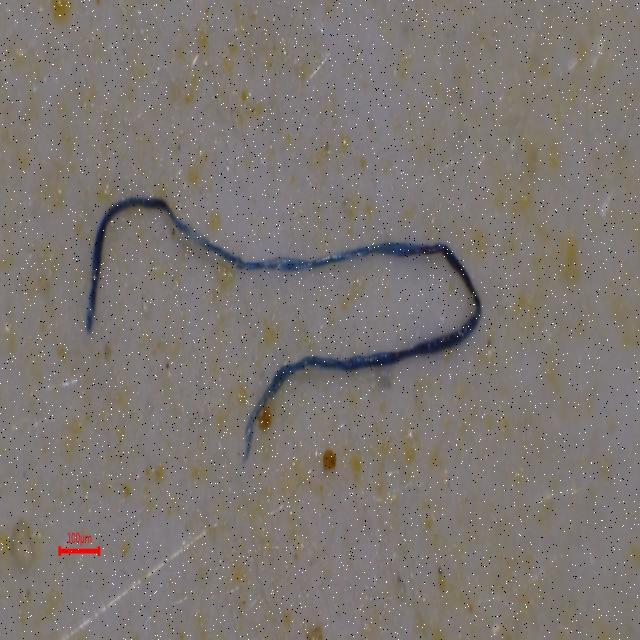fibers: (63, 188, 492, 494)
